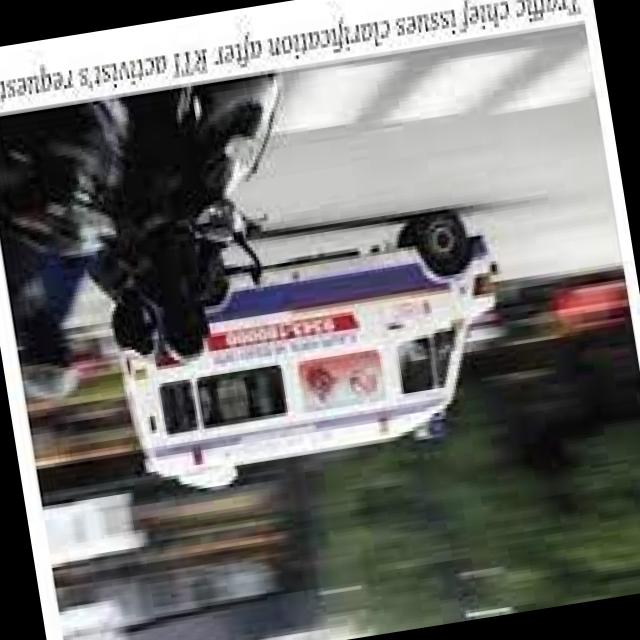ambulance: (159, 293, 520, 492)
